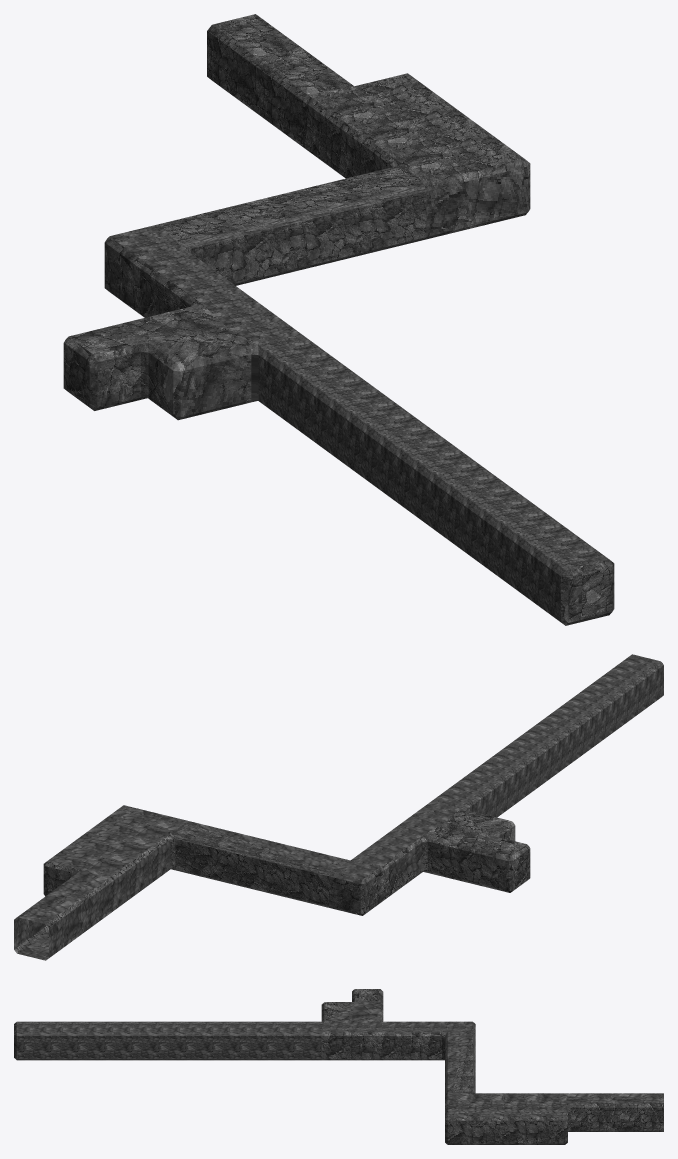
Rendered from location1.glb.
The picture shows the model from 3 angles, top to bottom: view 1: azimuth 30°, elevation 25°; view 2: azimuth 150°, elevation 25°; view 3: azimuth 270°, elevation 25°; orthographic projection. The views are drawn at different scales.
Visible parts, largest first — view 1: Cube; view 2: Cube; view 3: Cube.
Boxes of the visible parts, x1,y1,x2,y2 form: Cube: [63, 14, 614, 625]; Cube: [14, 654, 663, 960]; Cube: [14, 989, 663, 1144].
Size of the model in its own units: 20 by 2 by 42.19.
1 material, 1 textured.
